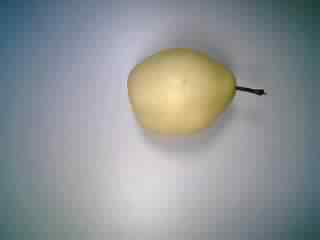pear: (120, 38, 271, 141)
